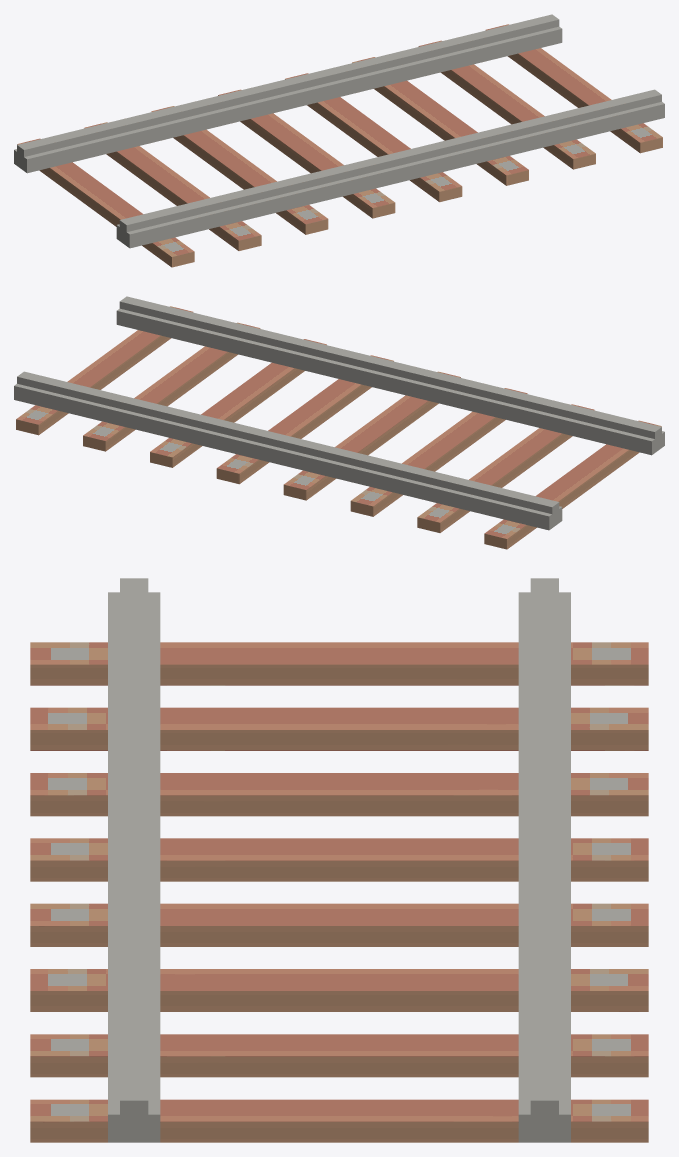
The model's file is Rail.fbx.
The picture shows the model from 3 angles, top to bottom: view 1: azimuth 30°, elevation 25°; view 2: azimuth 150°, elevation 25°; view 3: azimuth 270°, elevation 25°; orthographic projection. The views are drawn at different scales.
Parts seen in each view (by area): view 1: Rail; view 2: Rail; view 3: Rail.
Part boxes in pixels (x1,y1,x2,y2): Rail: (14, 14, 664, 267); Rail: (14, 296, 664, 549); Rail: (30, 578, 648, 1142).
Bounding box in the file's own units: 2 × 0.1125 × 1.
